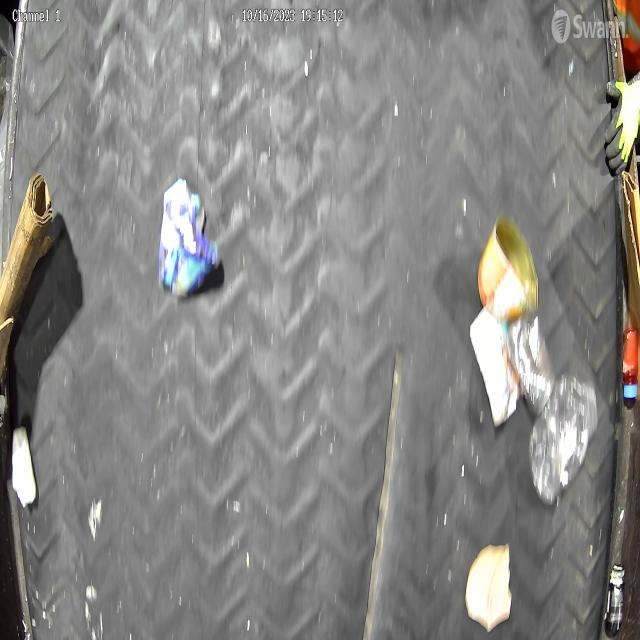can: (477, 214, 540, 320), (507, 314, 556, 412)
plastic_bottle: (527, 374, 598, 506)
